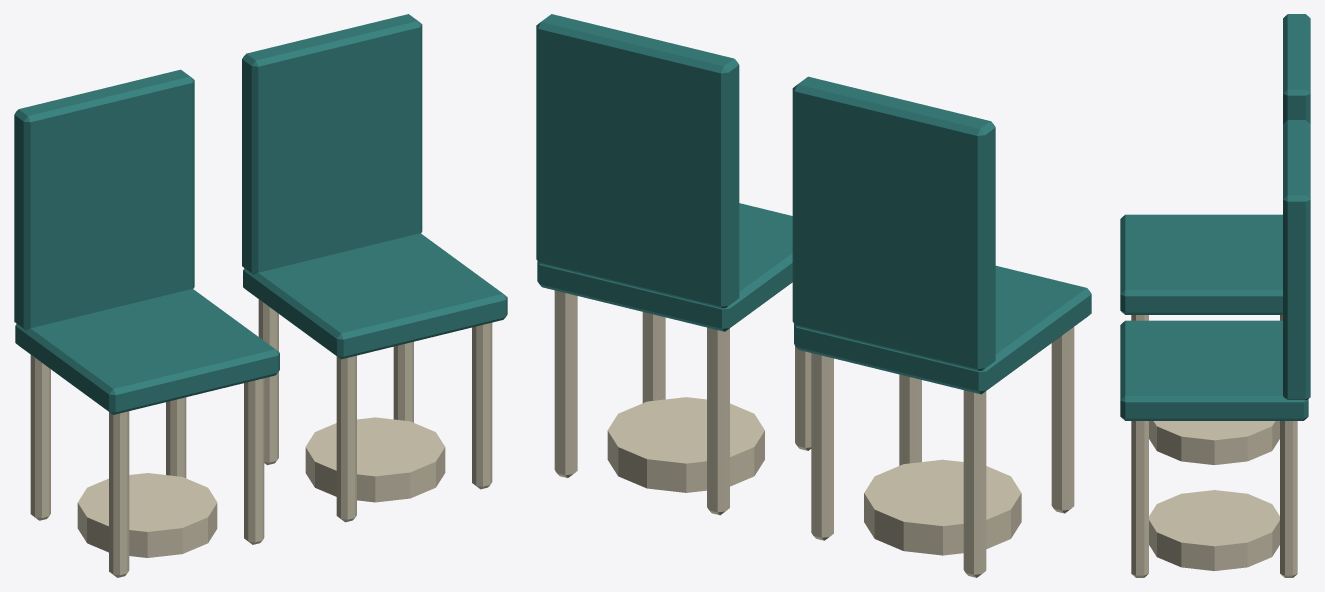
Rendered from chairs.glb.
3 renders of one model, left to right at view 1: azimuth 30°, elevation 25°; view 2: azimuth 150°, elevation 25°; view 3: azimuth 270°, elevation 25°, orthographic. The views are drawn at different scales.
Parts seen in each view (by area): view 1: Target0, Target1, Remnant0, Remnant1; view 2: Target0, Target1, Remnant0, Remnant1; view 3: Target1, Target0, Remnant1, Remnant0.
Part boxes in pixels (<box>): Target0: <box>14,69,279,577</box>; Target1: <box>242,14,507,522</box>; Remnant0: <box>77,473,217,557</box>; Remnant1: <box>305,417,445,502</box>; Target0: <box>792,76,1091,577</box>; Target1: <box>536,14,811,515</box>; Remnant0: <box>864,459,1021,555</box>; Remnant1: <box>607,397,764,492</box>; Target1: <box>1120,120,1310,577</box>; Target0: <box>1120,14,1310,320</box>; Remnant1: <box>1149,490,1279,570</box>; Remnant0: <box>1149,421,1279,464</box>.
Bounding box in the file's own units: 1.12 × 1.09 × 0.485.
